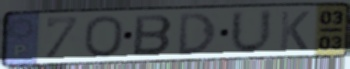7: (44, 15, 80, 61)
B: (131, 14, 176, 57)
D: (177, 11, 219, 57)
K: (277, 10, 312, 52)
O: (82, 14, 126, 60)
U: (228, 7, 275, 57)
